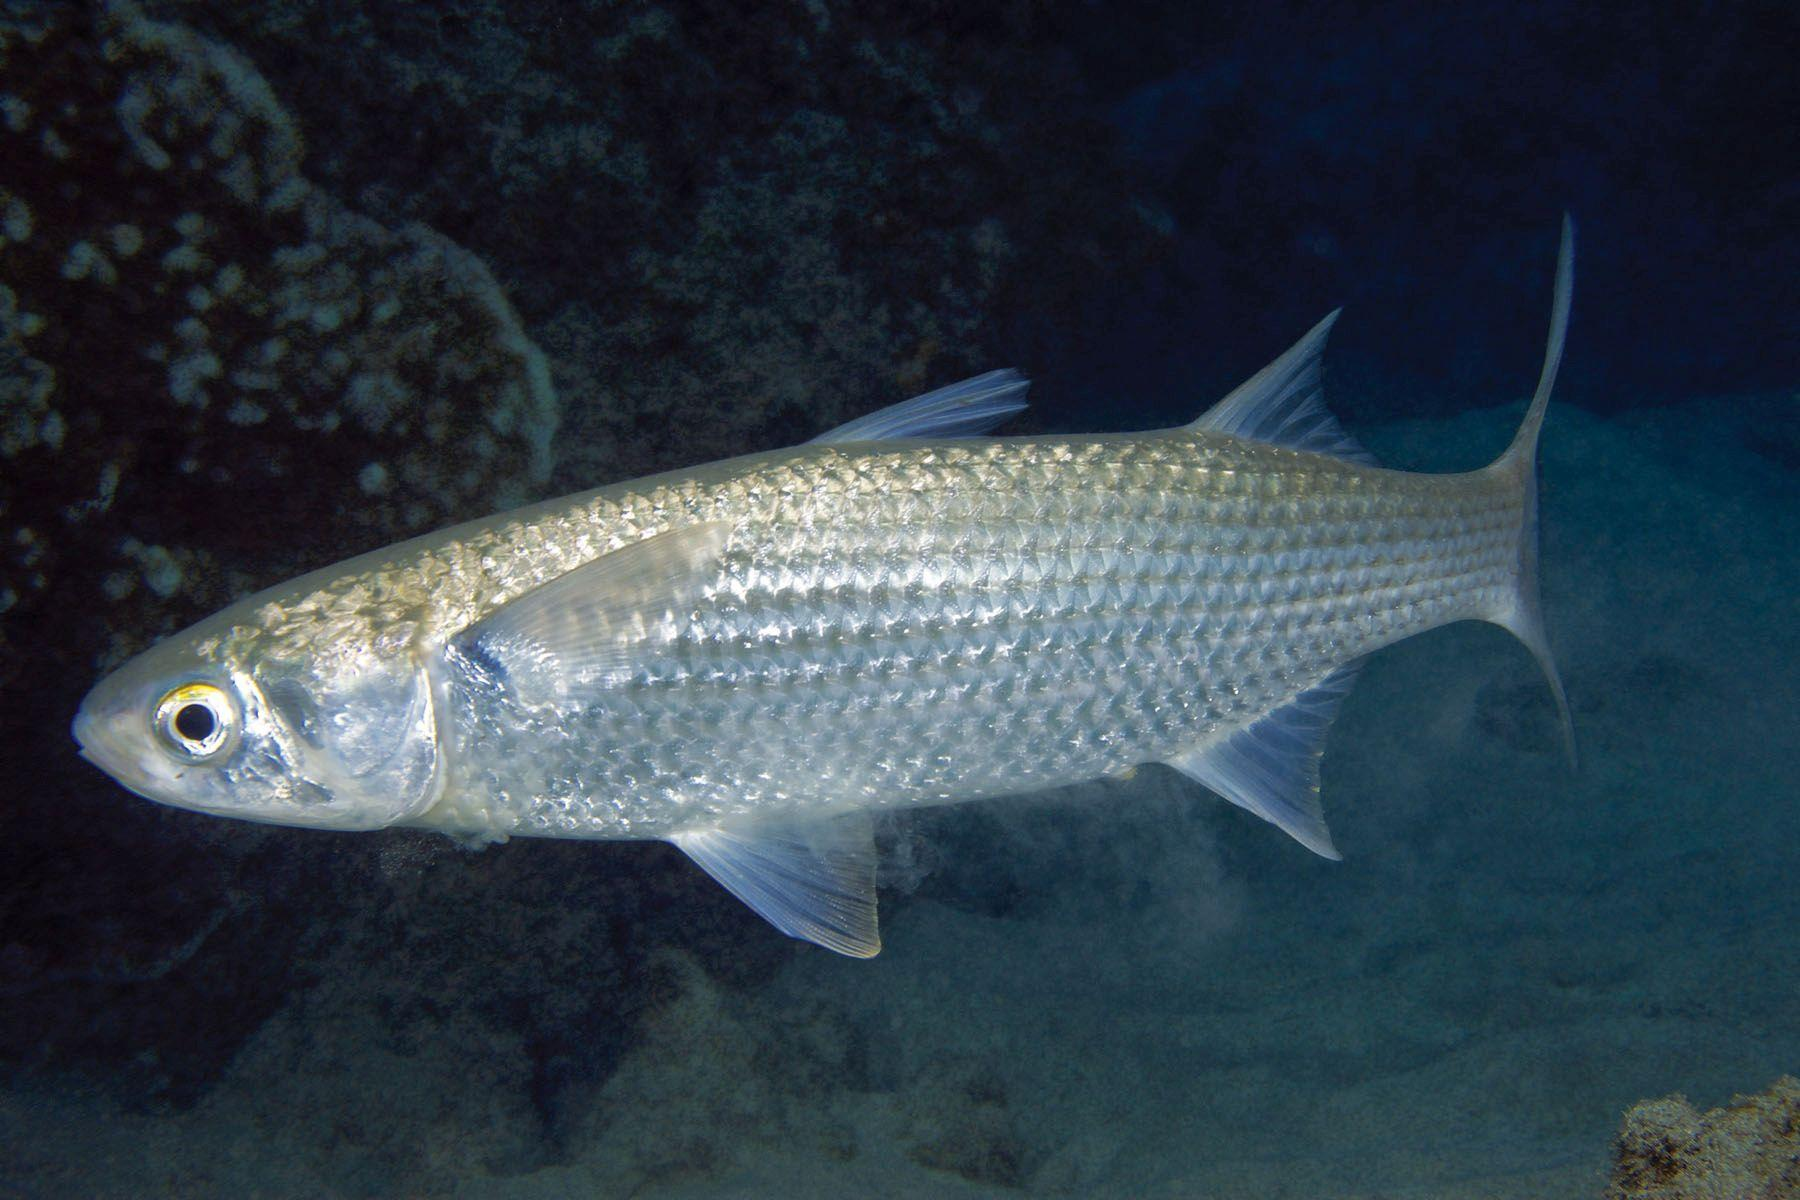Mullet: (64, 224, 1617, 970)
